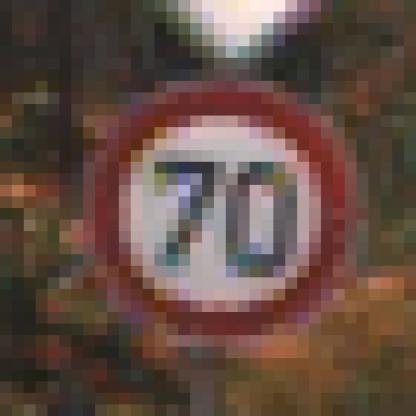Speed Limit 70: (102, 88, 344, 331)
